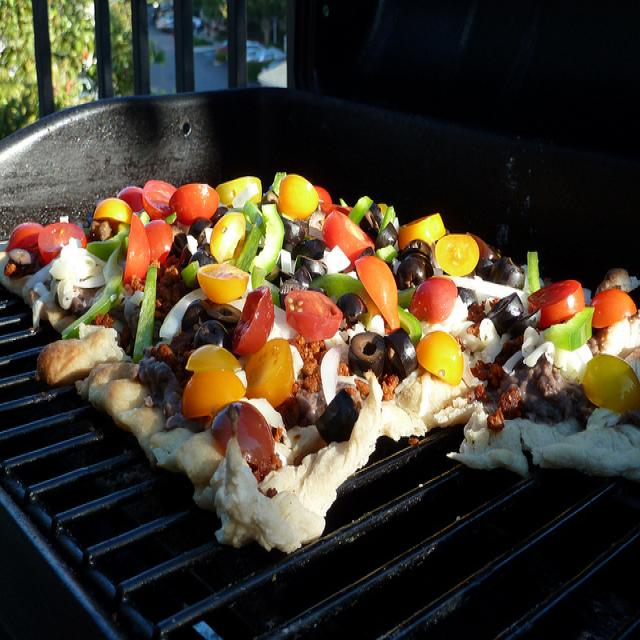Vehicle: (148, 0, 286, 96)
